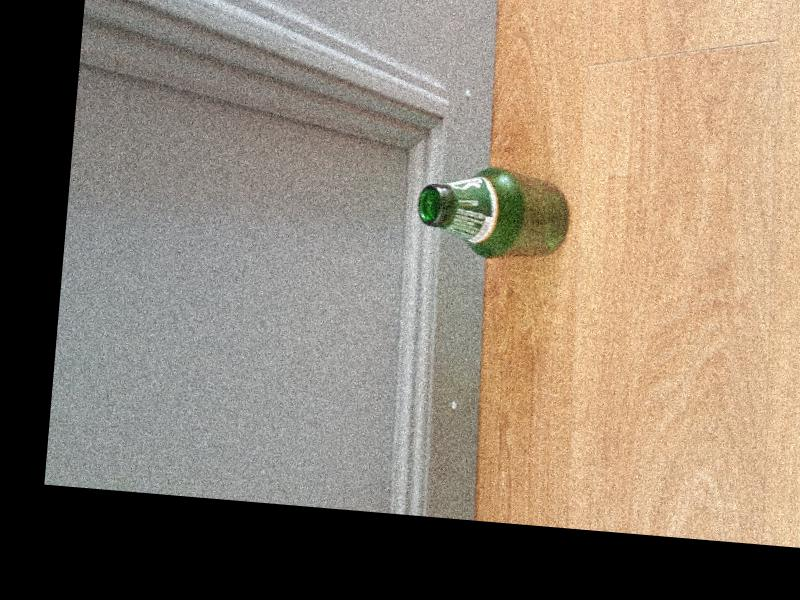Beer: (414, 161, 573, 265)
